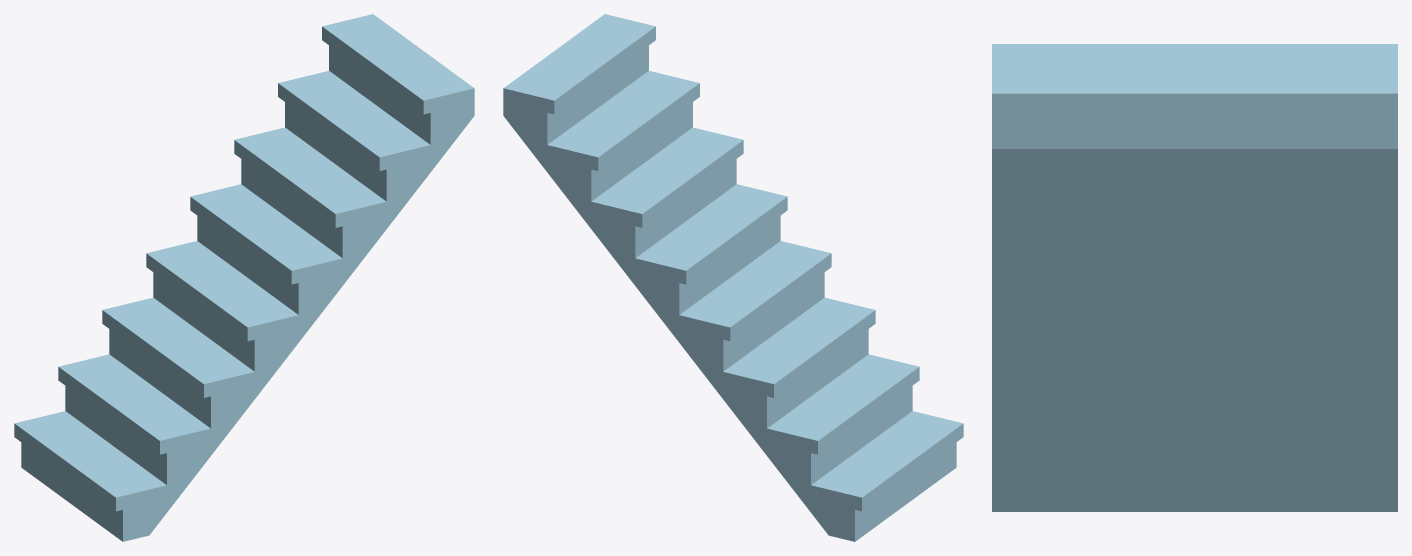
The model's file is stairsStone.fbx.
3 views of the same model, side by side, from view 1: azimuth 30°, elevation 25°; view 2: azimuth 150°, elevation 25°; view 3: azimuth 270°, elevation 25° (orthographic). The views are drawn at different scales.
Visible parts, largest first — view 1: stairsStone; view 2: stairsStone; view 3: stairsStone.
Boxes of the visible parts, x1=… form: stairsStone: x1=14, y1=14, x2=474, y2=541; stairsStone: x1=503, y1=14, x2=963, y2=541; stairsStone: x1=992, y1=44, x2=1397, y2=511.
Size of the model in its own units: 10.2 by 10 by 5.
